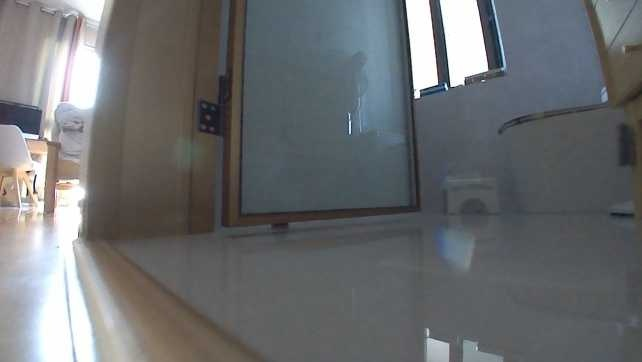door_anno: (216, 1, 423, 229)
door_sill: (70, 234, 266, 361)
plastic_stool: (442, 173, 499, 215)
toilet: (496, 96, 635, 216)
